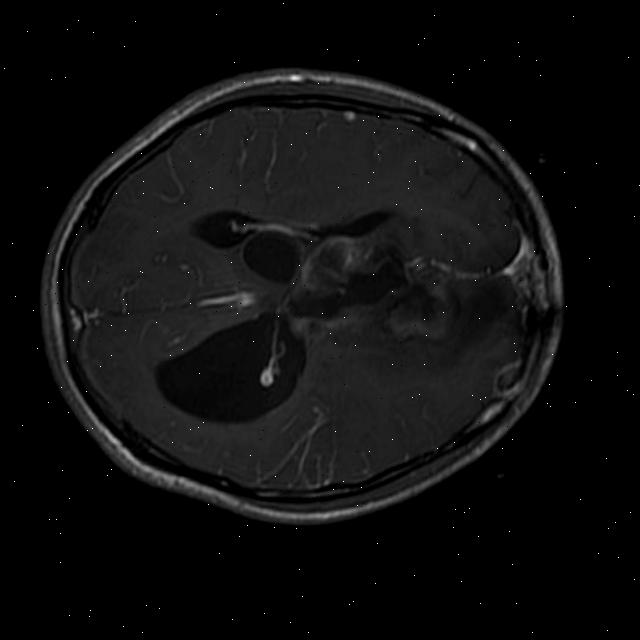Glioma: (291, 211, 396, 312), (379, 270, 462, 351)
